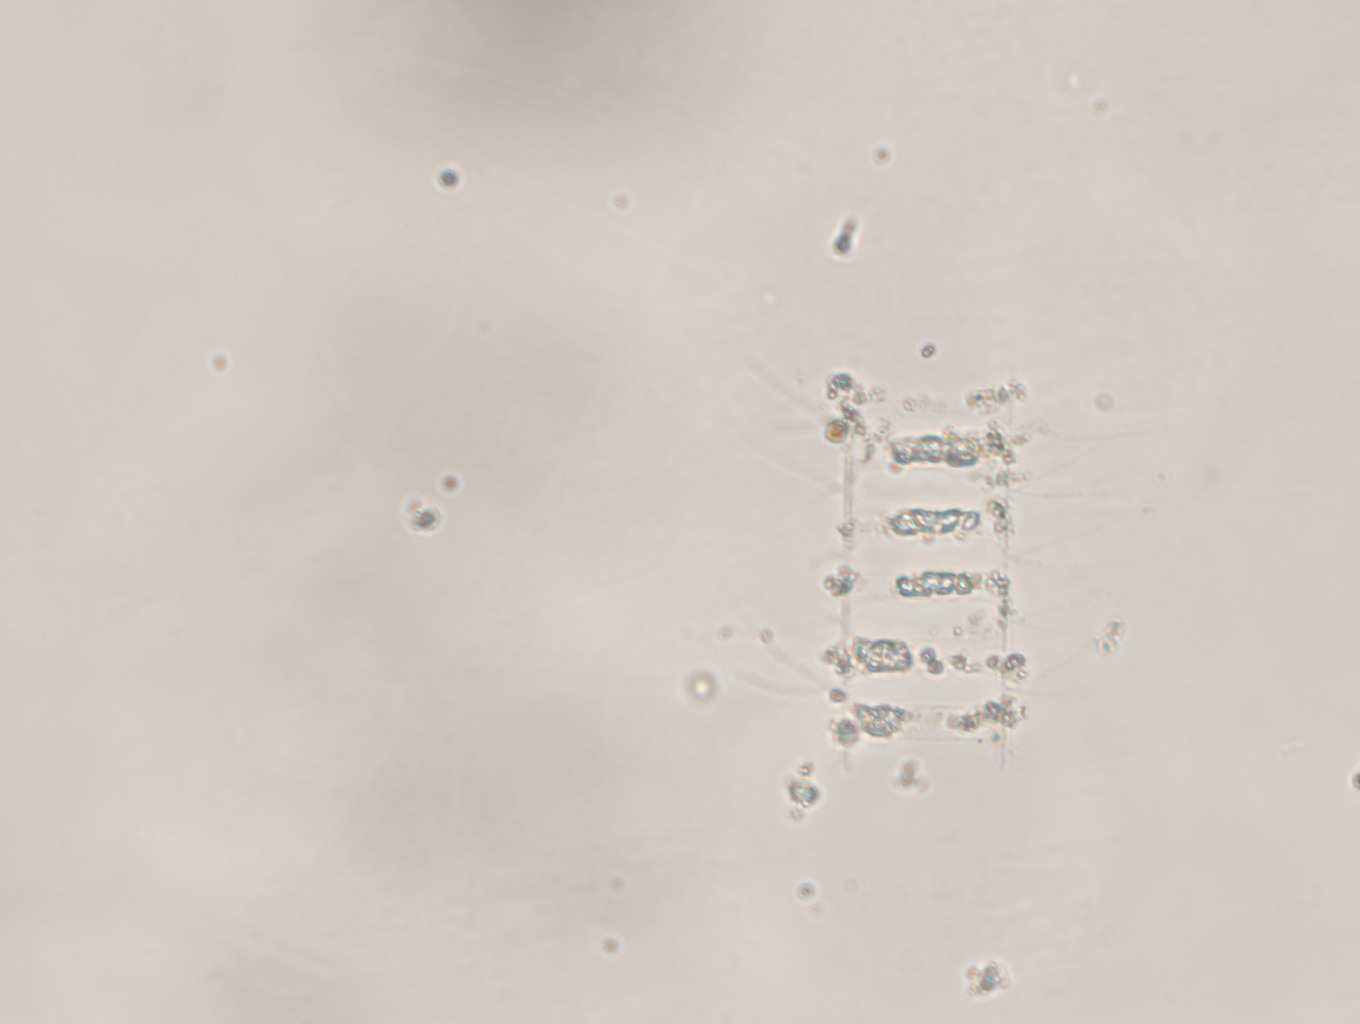chaetoceros: (725, 338, 1148, 794)
